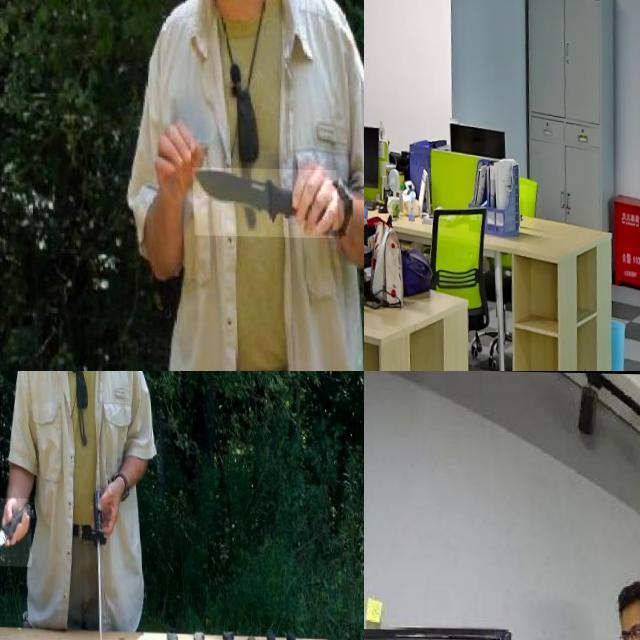-: (189, 166, 335, 237), (0, 496, 31, 565)
